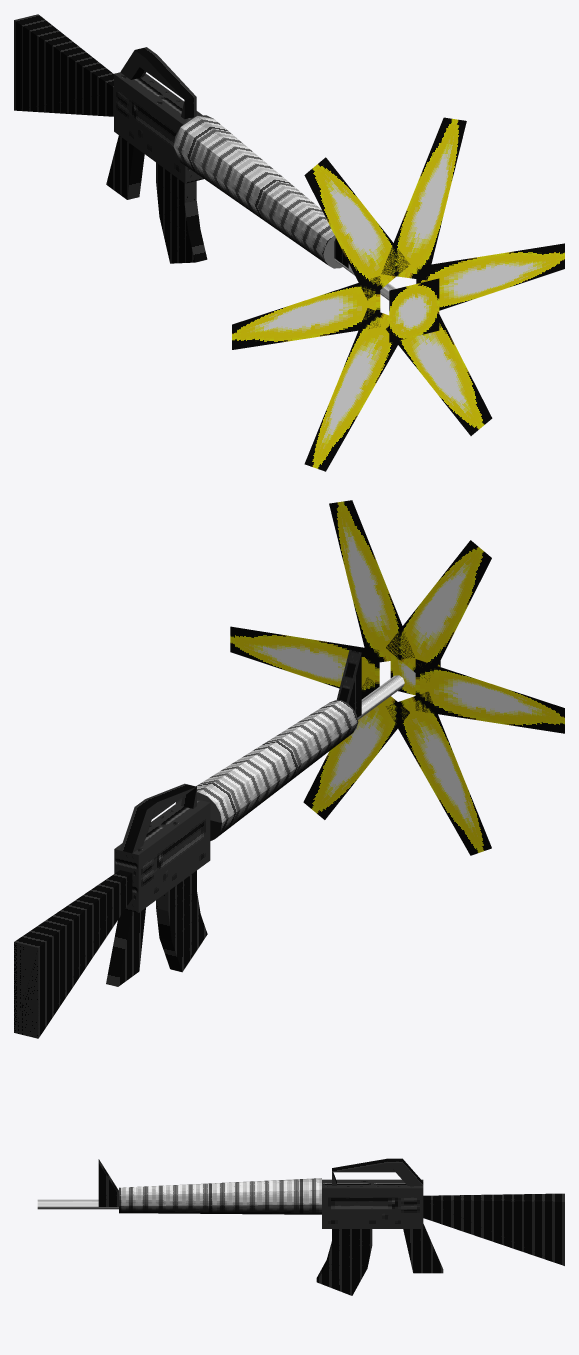
File: muzzle.glb
The picture shows the model from 3 angles, top to bottom: view 1: azimuth 30°, elevation 25°; view 2: azimuth 150°, elevation 25°; view 3: azimuth 270°, elevation 25°; orthographic projection. The views are drawn at different scales.
Parts seen in each view (by area): view 1: Room05, Room0F_primary, Room11_primary, Room17_primary, Room15_primary, Room04_primary, Room14_primary, Room1B_primary, Room1A_primary; view 2: Room05, Room11_primary, Room0F_primary, Room17_primary, Room15_primary, Room14_primary, Room1A_primary, Room0D_secondary, Room0B_primary; view 3: Room11_primary, Room0F_primary, Room17_primary, Room15_primary, Room14_primary, Room0B_primary, Room1B_primary, Room1A_primary, Room0D_secondary.
Boxes of the visible parts, x1,y1,x2,y2 form: Room05: (232,117,564,471); Room0F_primary: (173,115,342,268); Room11_primary: (14,14,113,116); Room17_primary: (114,72,203,183); Room15_primary: (156,162,207,263); Room04_primary: (389,278,439,342); Room14_primary: (106,135,144,199); Room1B_primary: (140,55,196,99); Room1A_primary: (120,47,156,79); Room05: (230,500,564,855); Room11_primary: (14,870,132,1038); Room0F_primary: (175,700,358,840); Room17_primary: (114,799,210,912); Room15_primary: (156,870,207,972); Room14_primary: (106,908,145,986); Room1A_primary: (120,799,157,853); Room0D_secondary: (336,649,361,705); Room0B_primary: (357,675,404,719); Room11_primary: (423,1193,564,1265); Room0F_primary: (119,1178,321,1214); Room17_primary: (322,1179,423,1228); Room15_primary: (316,1229,372,1295); Room14_primary: (403,1224,443,1273); Room0B_primary: (37,1199,118,1209); Room1B_primary: (332,1158,395,1172); Room1A_primary: (387,1158,423,1185); Room0D_secondary: (98,1159,118,1195).
Bounding box in the file's own units: 574 × 536 × 1158.
9 materials, 9 textured.
